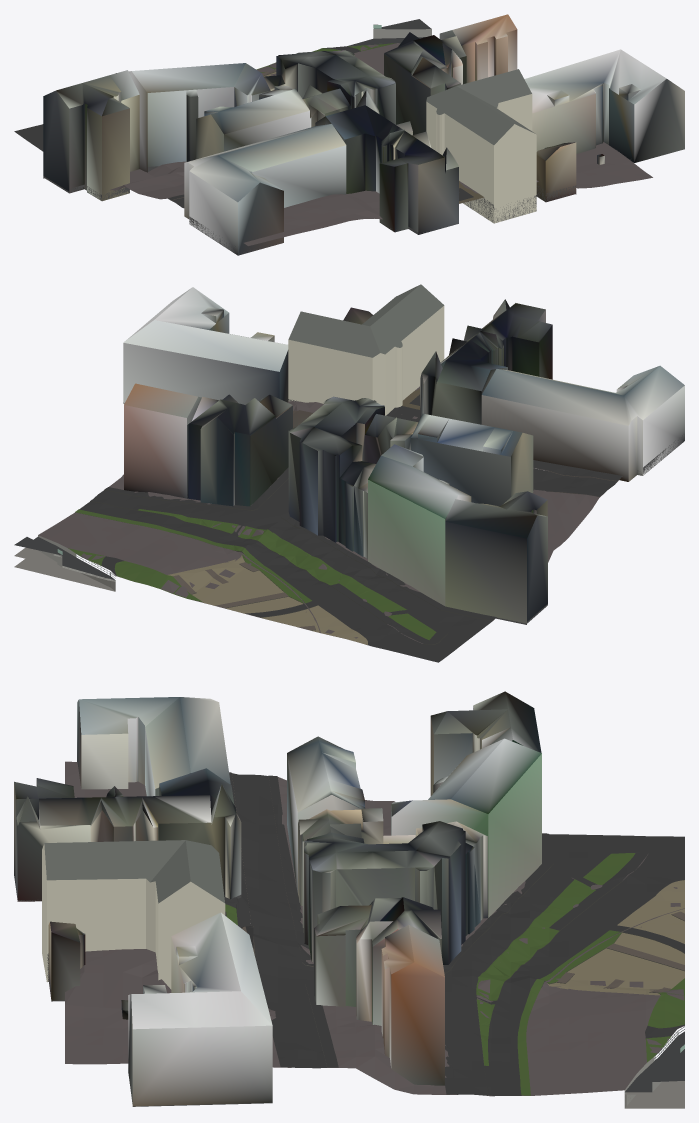
The picture shows the model from 3 angles, top to bottom: view 1: azimuth 30°, elevation 25°; view 2: azimuth 150°, elevation 25°; view 3: azimuth 270°, elevation 25°; orthographic projection. The views are drawn at different scales.
Visible parts, largest first — view 1: c_p02_m06; view 2: c_p02_m06; view 3: c_p02_m06, c_p02_m06_bridge_clipped_0.
Part boxes in pixels (x1=…): c_p02_m06: x1=14, y1=14, x2=684, y2=255; c_p02_m06: x1=14, y1=284, x2=684, y2=662; c_p02_m06: x1=14, y1=691, x2=684, y2=1108; c_p02_m06_bridge_clipped_0: x1=608, y1=1024, x2=684, y2=1091.
Size of the model in its own units: 155 by 40.4 by 139.
